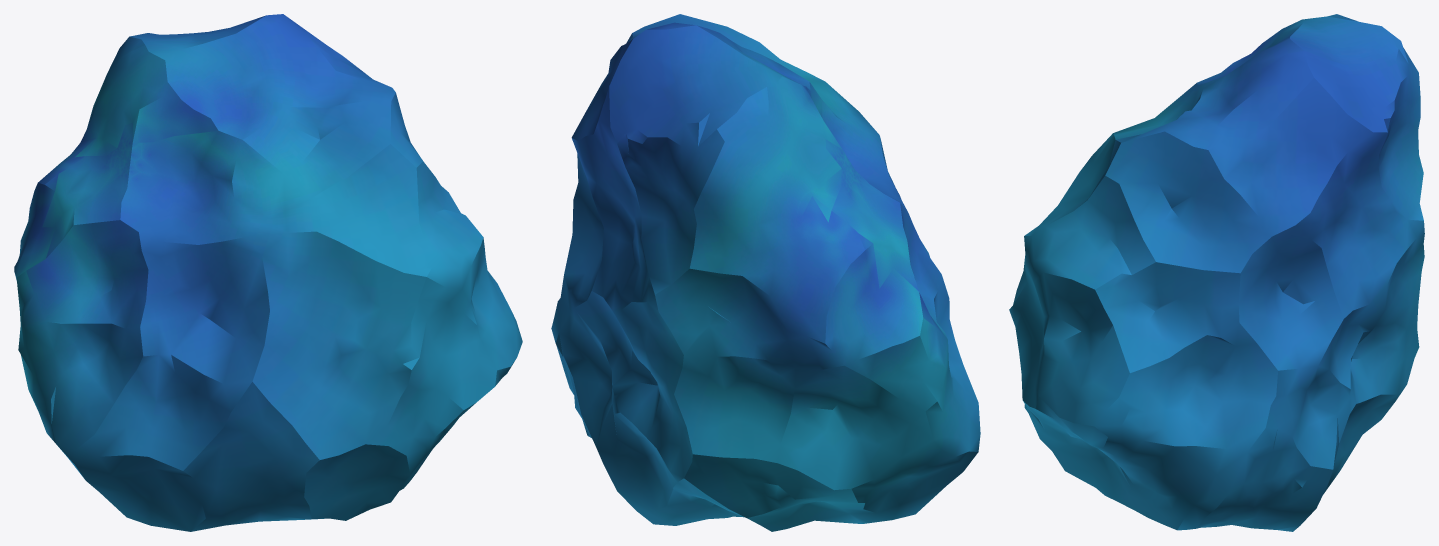
Rendered from Ice_Stone5.fbx.
3 views of the same model, side by side, from view 1: azimuth 30°, elevation 25°; view 2: azimuth 150°, elevation 25°; view 3: azimuth 270°, elevation 25° (orthographic). The views are drawn at different scales.
Parts seen in each view (by area): view 1: rock.014; view 2: rock.014; view 3: rock.014.
Boxes of the visible parts, x1=… form: rock.014: x1=14, y1=14, x2=522, y2=531; rock.014: x1=551, y1=14, x2=980, y2=531; rock.014: x1=1009, y1=14, x2=1424, y2=531.
Size of the model in its own units: 306 by 335 by 265.
